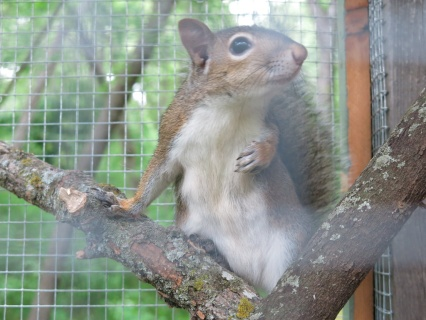Squirrel: (93, 17, 355, 299)
